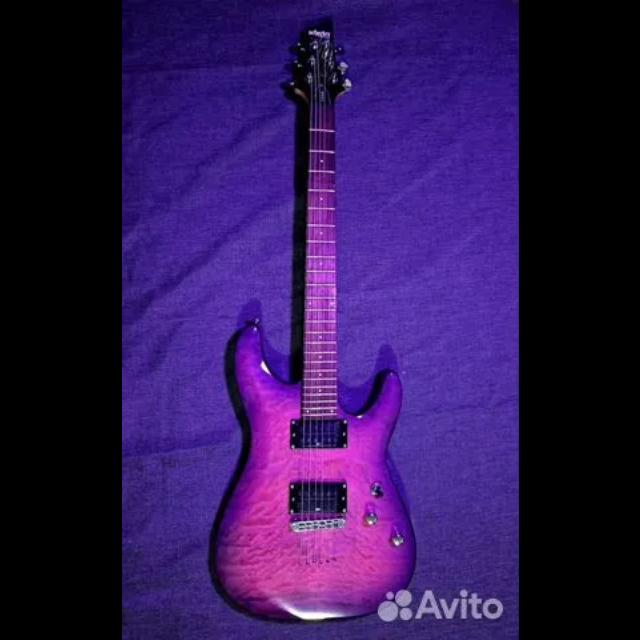Electric-Guitar: (209, 16, 417, 624)
